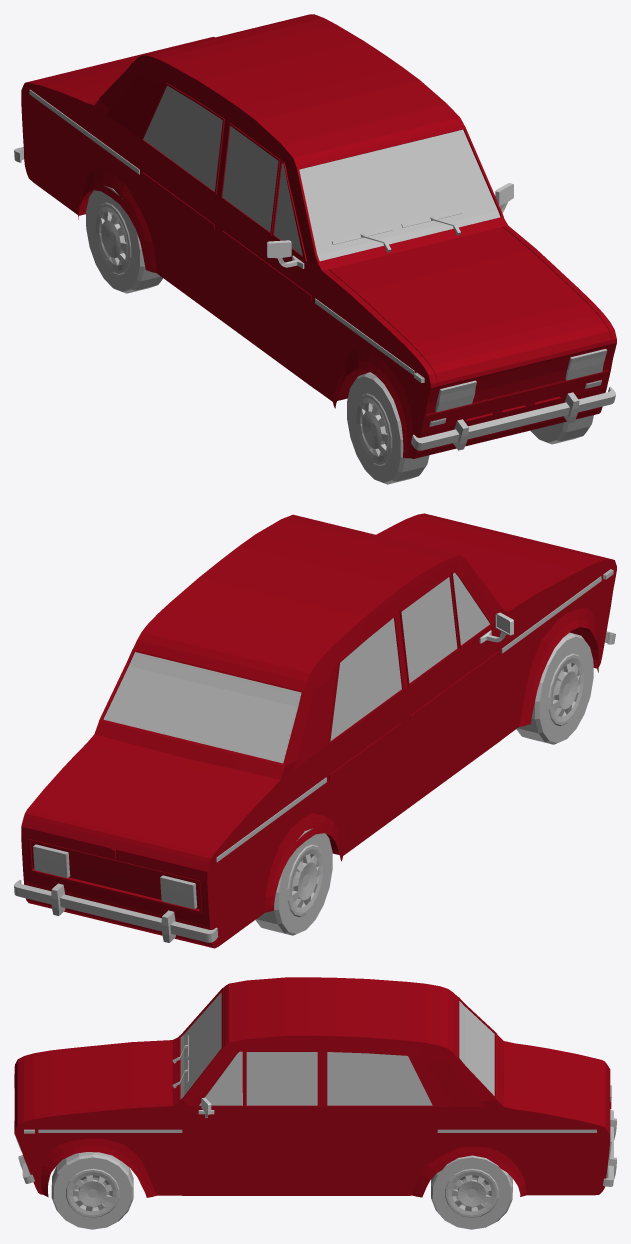
The model's file is Lada.fbx.
3 views of the same model, one above another, from view 1: azimuth 30°, elevation 25°; view 2: azimuth 150°, elevation 25°; view 3: azimuth 270°, elevation 25° (orthographic). The views are drawn at different scales.
Visible parts, largest first — view 1: Carframe, window_front, Doors_front_right, Doors_rear_right, Wheel_front_right, window_front_right, window_rear_right, Wheel_rear_right, Bumper_front, Bumper_sight, Wheel_front_left, Light_front_right (+1 smaller); view 2: Carframe, window_rear, Doors_front_right, Doors_rear_right, Wheel_front_right, window_front_right, window_rear_right, Wheel_rear_right, Bumper_rear, Bumper_sight, Light_rear_right, Light_rear_left; view 3: Carframe, Doors_front_left, Doors_rear_left, Wheel_front_left, window_front_left, window_rear_left, Wheel_rear_left, window_front, window_rear, Bumper_sight, Bumper_rear.
Part boxes in pixels (x1=…): Carframe: x1=21, y1=14, x2=616, y2=458; window_front: x1=299, y1=129, x2=500, y2=261; Doors_front_right: x1=220, y1=123, x2=313, y2=384; Doors_rear_right: x1=141, y1=83, x2=224, y2=313; Wheel_front_right: x1=347, y1=372, x2=429, y2=484; window_front_right: x1=222, y1=126, x2=302, y2=255; window_rear_right: x1=143, y1=85, x2=222, y2=191; Wheel_rear_right: x1=86, y1=185, x2=162, y2=293; Bumper_front: x1=411, y1=386, x2=615, y2=450; Bumper_sight: x1=29, y1=89, x2=414, y2=375; Wheel_front_left: x1=530, y1=415, x2=593, y2=444; Light_front_right: x1=435, y1=380, x2=476, y2=412; Carframe: x1=21, y1=513, x2=616, y2=948; window_rear: x1=103, y1=652, x2=301, y2=763; Doors_front_right: x1=399, y1=571, x2=499, y2=805; Doors_rear_right: x1=327, y1=614, x2=403, y2=844; Wheel_front_right: x1=516, y1=632, x2=593, y2=744; window_front_right: x1=401, y1=572, x2=489, y2=683; window_rear_right: x1=330, y1=618, x2=401, y2=741; Wheel_rear_right: x1=255, y1=828, x2=332, y2=935; Bumper_rear: x1=14, y1=880, x2=218, y2=942; Bumper_sight: x1=216, y1=576, x2=601, y2=862; Light_rear_right: x1=160, y1=875, x2=197, y2=909; Light_rear_left: x1=33, y1=844, x2=70, y2=878; Carframe: x1=14, y1=977, x2=611, y2=1197; Doors_front_left: x1=185, y1=1050, x2=318, y2=1193; Doors_rear_left: x1=326, y1=1050, x2=435, y2=1193; Wheel_front_left: x1=51, y1=1152, x2=133, y2=1229; window_front_left: x1=199, y1=1051, x2=317, y2=1105; window_rear_left: x1=327, y1=1052, x2=432, y2=1105; Wheel_rear_left: x1=431, y1=1155, x2=512, y2=1229; window_front: x1=180, y1=992, x2=221, y2=1099; window_rear: x1=459, y1=1001, x2=494, y2=1095; Bumper_sight: x1=38, y1=1129, x2=596, y2=1132; Bumper_rear: x1=603, y1=1109, x2=616, y2=1186.
Size of what is drawn, in the model's own units: 305 by 308 by 888.
